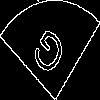G: (25, 25, 69, 85)
